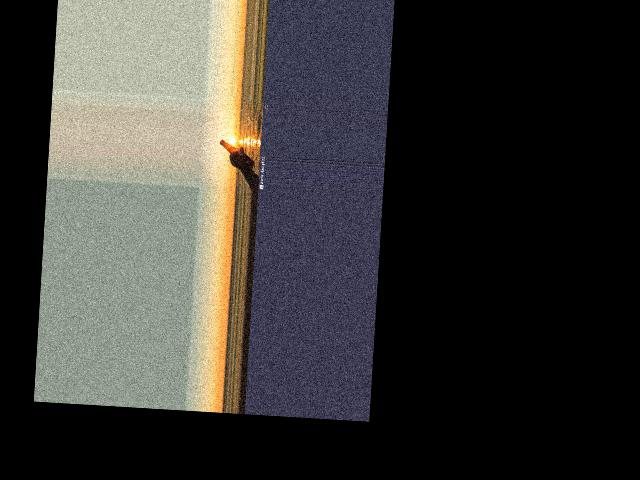beer: (217, 139, 256, 169)
